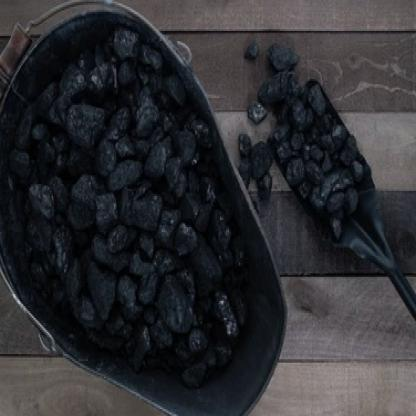Sedimentary_coal: (157, 268, 200, 335), (64, 93, 102, 155), (64, 171, 102, 230), (27, 177, 63, 232), (209, 289, 245, 335), (171, 217, 204, 263), (145, 132, 176, 180), (264, 36, 300, 71), (128, 192, 160, 230), (140, 91, 164, 139), (93, 50, 113, 100), (302, 79, 328, 114), (239, 96, 267, 122), (240, 36, 258, 64)
